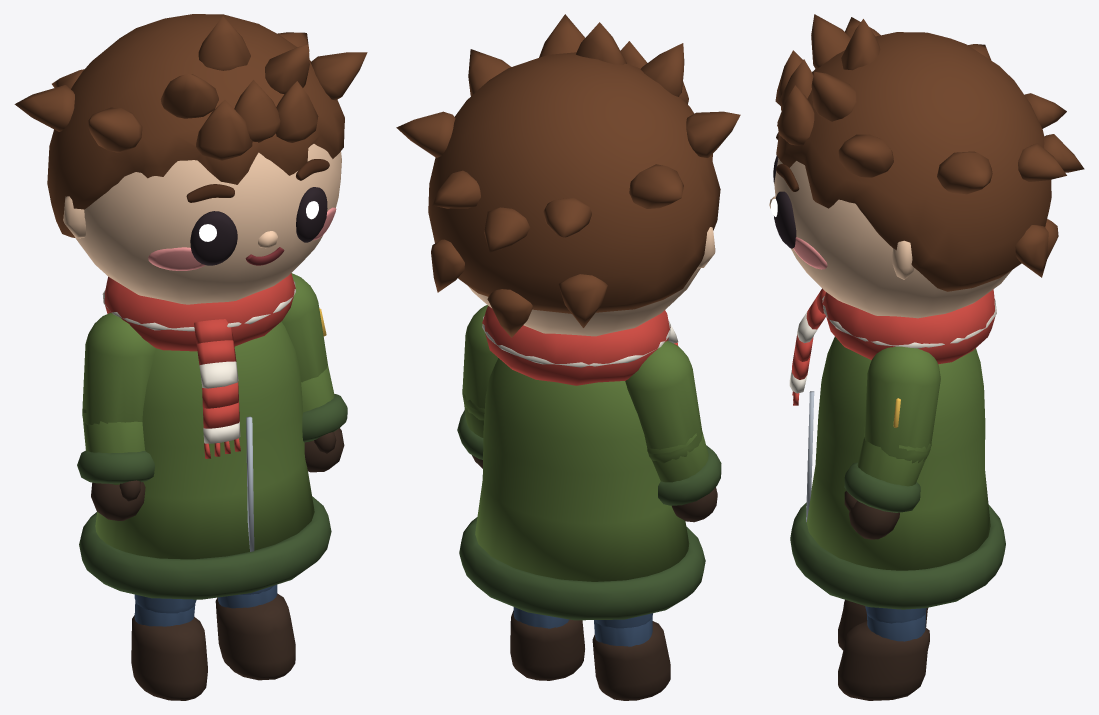
File: npc_young_man.glb
3 views of the same model, side by side, from view 1: azimuth 30°, elevation 25°; view 2: azimuth 150°, elevation 25°; view 3: azimuth 270°, elevation 25° (orthographic). The views are drawn at different scales.
Parts seen in each view (by area): view 1: head_S_body, spine_S_body, chest_S_body, uarm_R, knee_R_S_body, knee_L_S_body, el_R_S_body, head_S_eye_dot, sh_L_S_body, el_L_S_body, hand_R_body, hand_L_body (+3 smaller); view 2: head_S_body, spine_S_body, chest_S_body, uarm_R, knee_R_S_body, knee_L_S_body, el_R_S_body, sh_L_S_body, el_L_S_body, hand_R_body; view 3: head_S_body, spine_S_body, chest_S_body, sh_L_S_body, knee_L_S_body, el_L_S_body, hand_L_body, head_S_eye_dot, knee_R_S_body, thigh_L, head_S_cheek_blush.
Boxes of the visible parts, bbox=[...] form: head_S_body: bbox=[14, 14, 367, 304]; spine_S_body: bbox=[79, 322, 331, 599]; chest_S_body: bbox=[102, 273, 295, 458]; uarm_R: bbox=[82, 312, 155, 424]; knee_R_S_body: bbox=[131, 601, 207, 700]; knee_L_S_body: bbox=[215, 584, 295, 680]; el_R_S_body: bbox=[77, 408, 154, 484]; head_S_eye_dot: bbox=[190, 187, 327, 265]; sh_L_S_body: bbox=[281, 273, 327, 382]; el_L_S_body: bbox=[301, 365, 347, 442]; hand_R_body: bbox=[91, 480, 145, 520]; hand_L_body: bbox=[304, 428, 344, 472]; head_S_body: bbox=[396, 14, 740, 337]; spine_S_body: bbox=[459, 358, 705, 620]; chest_S_body: bbox=[482, 306, 678, 385]; uarm_R: bbox=[625, 340, 702, 463]; knee_R_S_body: bbox=[592, 617, 670, 700]; knee_L_S_body: bbox=[510, 607, 584, 680]; el_R_S_body: bbox=[647, 432, 721, 505]; sh_L_S_body: bbox=[462, 305, 497, 420]; el_L_S_body: bbox=[457, 389, 484, 459]; hand_R_body: bbox=[672, 487, 717, 522]; head_S_body: bbox=[769, 14, 1084, 318]; spine_S_body: bbox=[790, 336, 1005, 609]; chest_S_body: bbox=[789, 288, 996, 405]; sh_L_S_body: bbox=[864, 346, 940, 463]; knee_L_S_body: bbox=[838, 612, 929, 700]; el_L_S_body: bbox=[844, 437, 931, 512]; hand_L_body: bbox=[844, 491, 899, 539]; head_S_eye_dot: bbox=[770, 155, 796, 248]; knee_R_S_body: bbox=[838, 600, 928, 650]; thigh_L: bbox=[865, 606, 926, 623]; head_S_cheek_blush: bbox=[793, 237, 827, 269].
Size of what is drawn, in the model's own units: 0.6806 by 1.49 by 0.6499.
